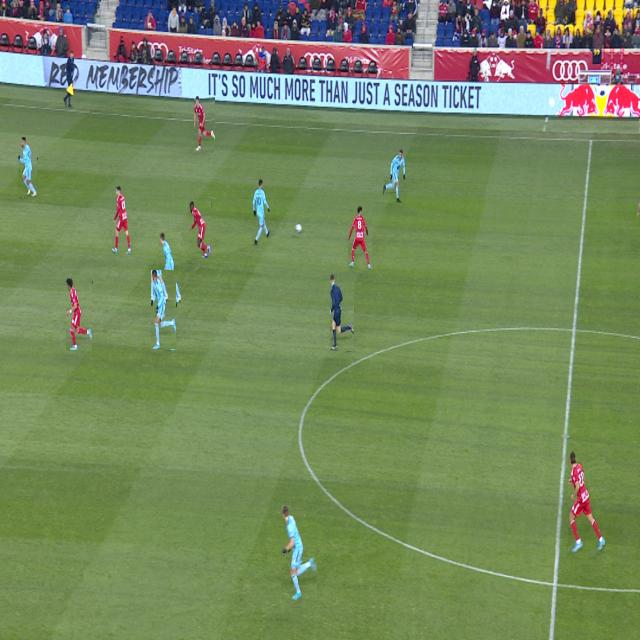football: (295, 223, 302, 233)
player: (568, 451, 605, 553), (282, 505, 317, 600), (152, 271, 176, 349), (67, 279, 92, 351), (348, 206, 372, 270), (160, 233, 181, 302), (112, 186, 131, 255), (252, 179, 271, 245), (190, 201, 211, 258), (383, 150, 405, 203), (194, 97, 215, 152), (19, 137, 37, 197)
referee: (330, 275, 354, 351)
